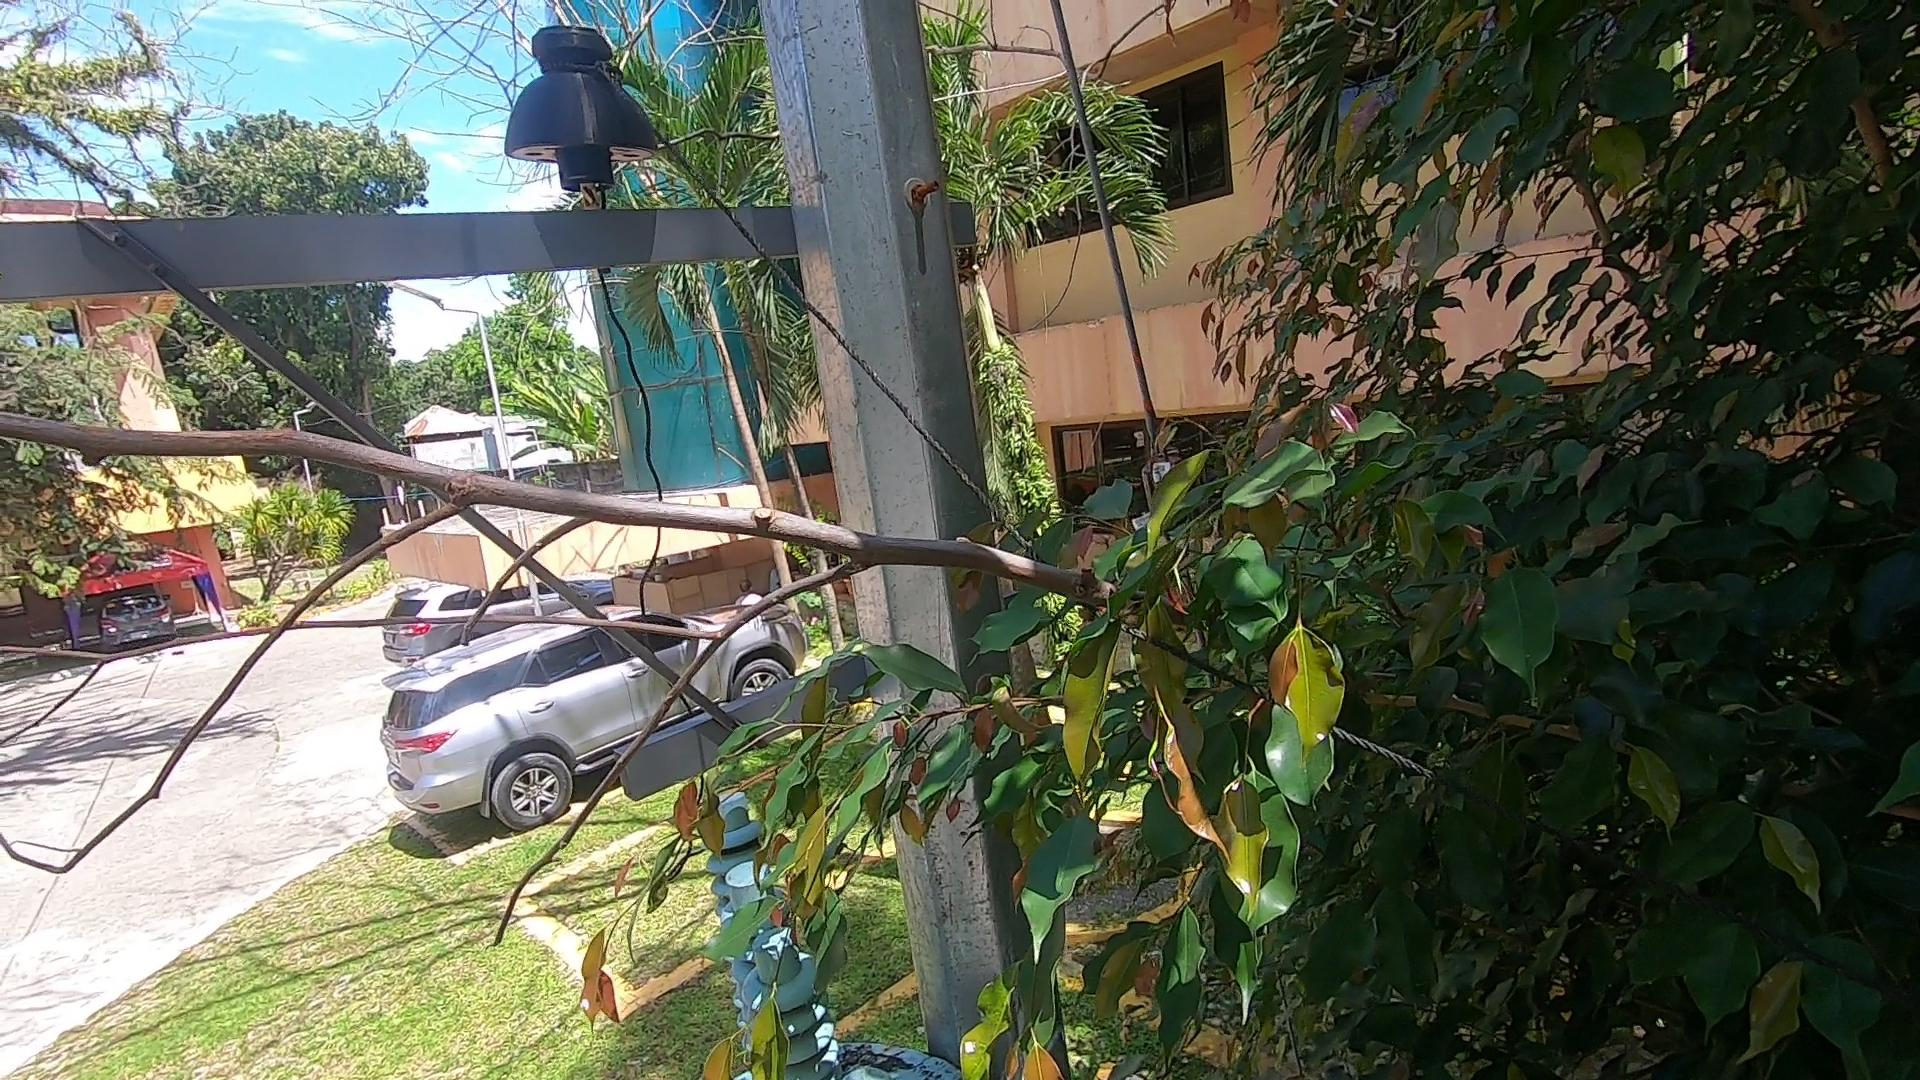tree branch: (1, 381, 1365, 1059)
